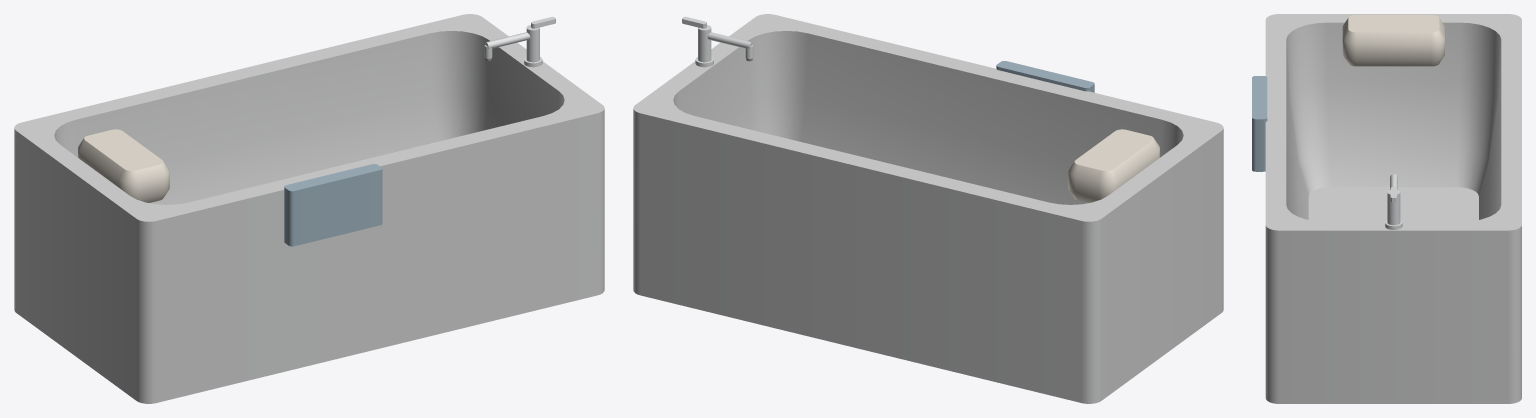
3 renders of one model, left to right at view 1: azimuth 30°, elevation 25°; view 2: azimuth 150°, elevation 25°; view 3: azimuth 270°, elevation 25°, orthographic. The views are drawn at different scales.
Visible parts, largest first — view 1: Bồn tắm Dài bồn=1500; Rộng bồn=750; view 2: Bồn tắm Dài bồn=1500; Rộng bồn=750; view 3: Bồn tắm Dài bồn=1500; Rộng bồn=750.
Boxes of the visible parts, x1,y1,x2,y2 form: Bồn tắm Dài bồn=1500; Rộng bồn=750: [14, 14, 604, 403]; Bồn tắm Dài bồn=1500; Rộng bồn=750: [633, 14, 1223, 403]; Bồn tắm Dài bồn=1500; Rộng bồn=750: [1252, 14, 1521, 403].
Bounding box in the file's own units: 1.54 × 0.684 × 0.79.
